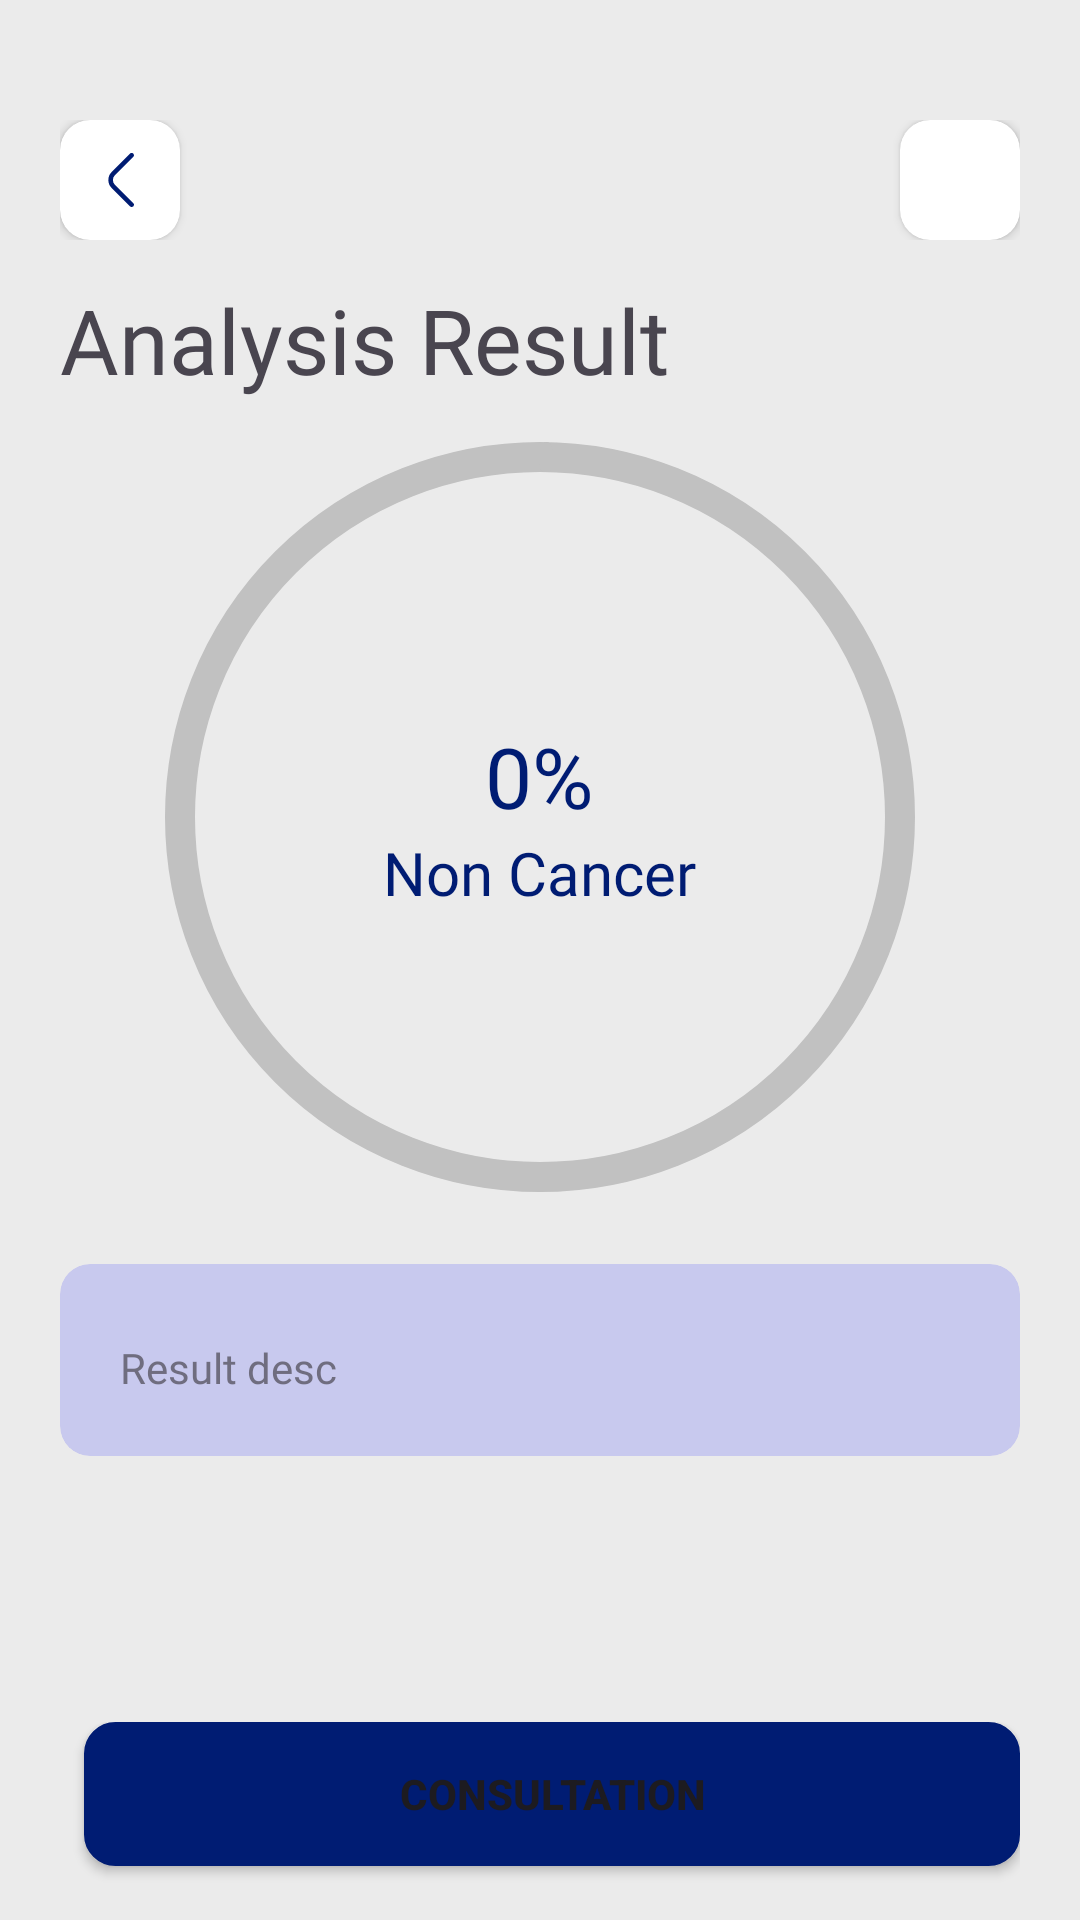

Icons on this 1080w x 1920h Android screen, each with the point to tap as point (x, y):
back: point (120, 180)
